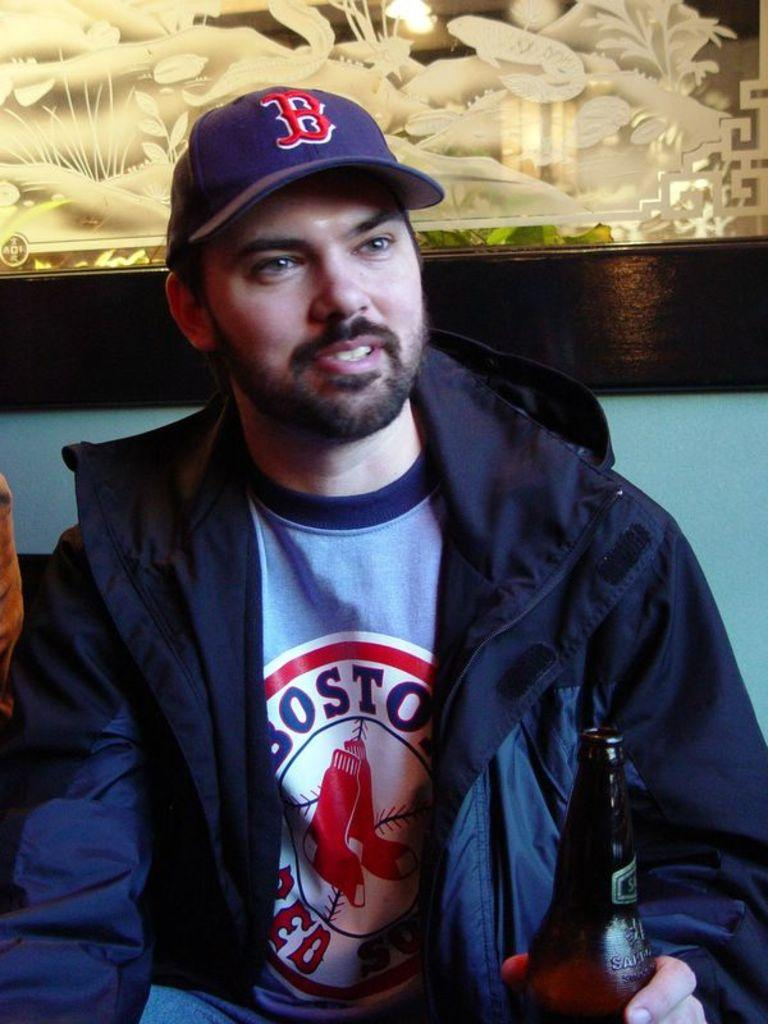Hat: (162, 86, 445, 274)
